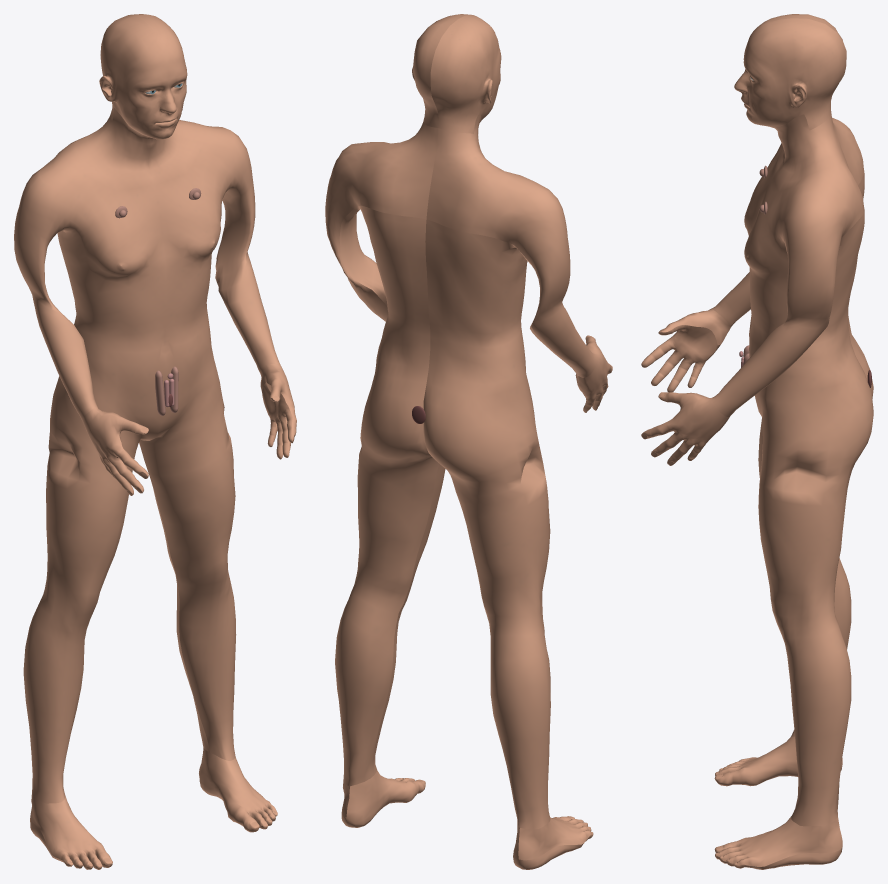
Rendered from body-erwachsener-divers-vulva-keine-brueste-real-v3.glb.
3 renders of one model, left to right at view 1: azimuth 30°, elevation 25°; view 2: azimuth 150°, elevation 25°; view 3: azimuth 270°, elevation 25°, orthographic.
Parts seen in each view (by area): view 1: real-human-body; view 2: real-human-body; view 3: real-human-body.
Part boxes in pixels (<box>): real-human-body: <box>14,14,296,869</box>; real-human-body: <box>325,14,612,869</box>; real-human-body: <box>641,14,873,869</box>.
Size of the model in its own units: 0.521 by 1.72 by 0.4518.
Materials: 8 (1 with a texture image).
